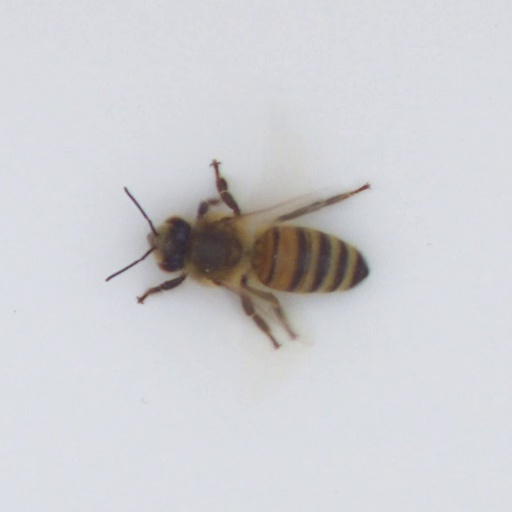Bee: (151, 221, 360, 291)
Thorax: (193, 210, 246, 282)
